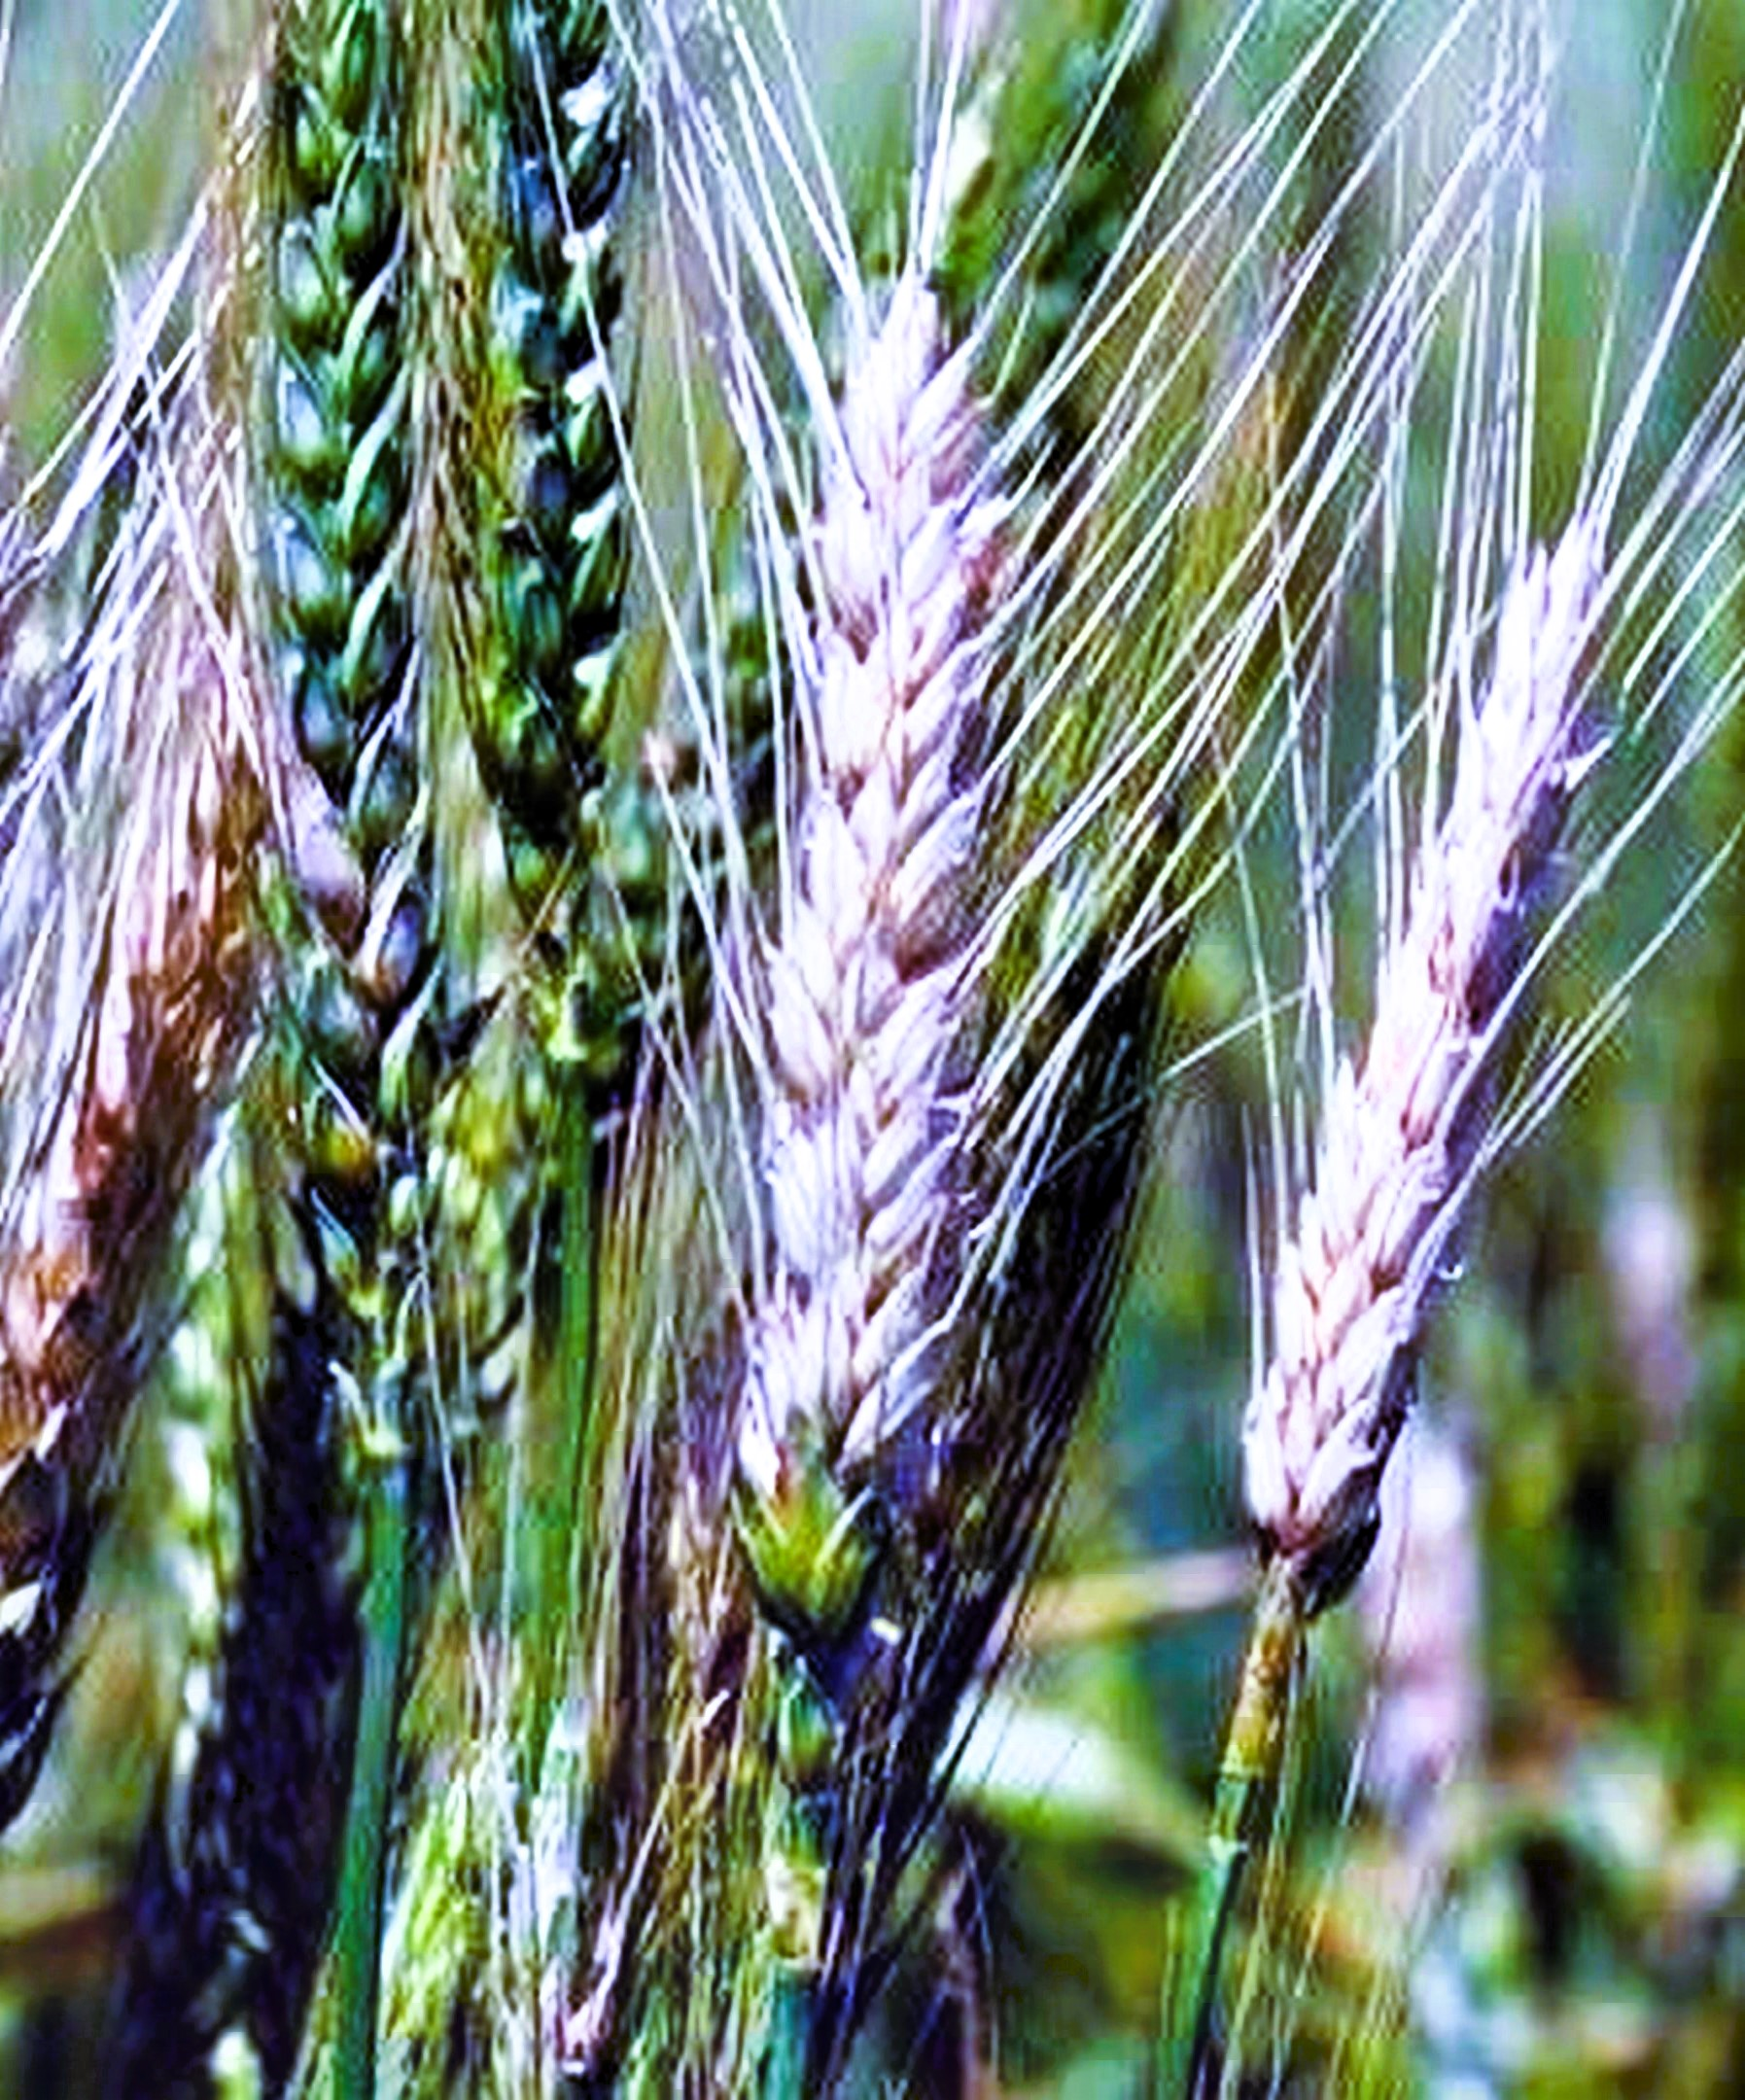Wheat scab: (715, 310, 1056, 1688)
